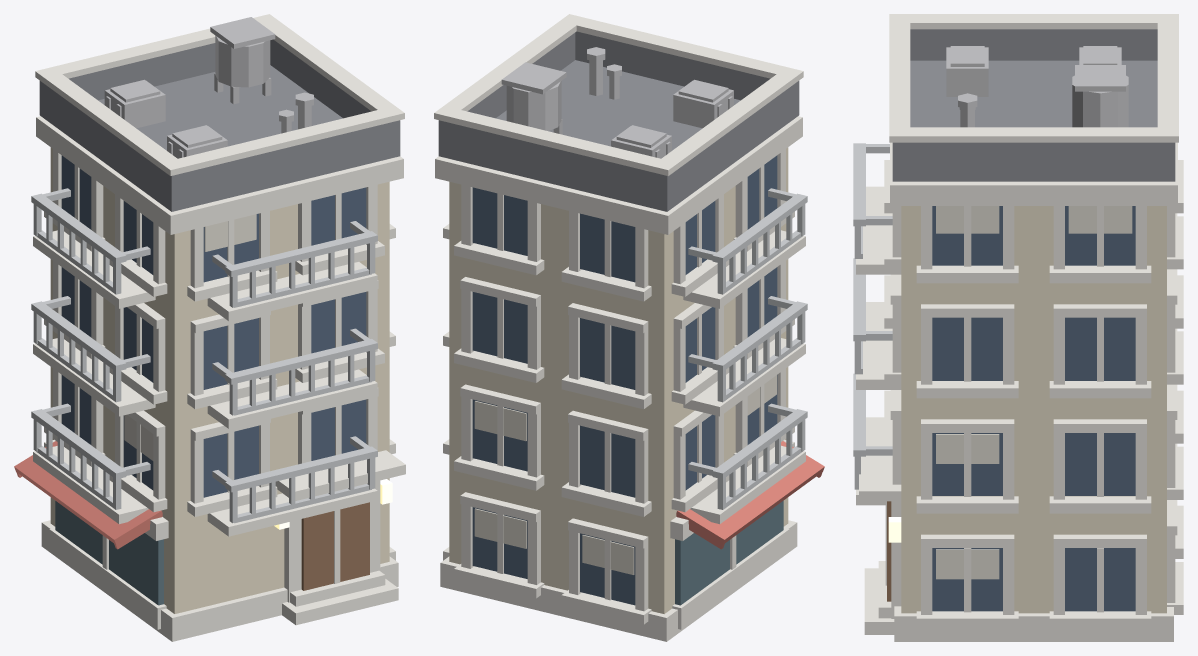
The model's file is bld_0_2.glb.
The picture shows the model from 3 angles, left to right: view 1: azimuth 30°, elevation 25°; view 2: azimuth 150°, elevation 25°; view 3: azimuth 270°, elevation 25°; orthographic projection. The views are drawn at different scales.
Parts seen in each view (by area): view 1: trim, w, rf, rail, win, ac, door, shop, awn, blind; view 2: trim, w, win, rf, rail, ac, blind, shop, awn; view 3: trim, w, rf, win, ac, blind, rail.
Part boxes in pixels (x1,y1,x2,y2): trim: [33, 14, 405, 641]; w: [50, 147, 389, 613]; rf: [39, 39, 400, 211]; rail: [31, 188, 377, 523]; win: [61, 155, 366, 497]; ac: [104, 17, 313, 158]; door: [301, 502, 369, 590]; shop: [55, 501, 163, 605]; awn: [14, 441, 162, 549]; blind: [124, 214, 256, 460]; trim: [434, 14, 805, 641]; w: [449, 147, 788, 613]; win: [472, 155, 777, 605]; rf: [438, 31, 799, 211]; rail: [688, 188, 807, 509]; ac: [501, 47, 733, 158]; blind: [474, 375, 776, 574]; shop: [675, 501, 783, 605]; awn: [676, 441, 824, 549]; trim: [856, 14, 1183, 641]; w: [901, 206, 1166, 613]; rf: [892, 29, 1175, 181]; win: [932, 206, 1135, 611]; ac: [946, 46, 1128, 127]; blind: [936, 206, 1132, 579]; rail: [853, 143, 892, 489].
Size of the model in its own units: 2.42 by 4.18 by 2.34.
